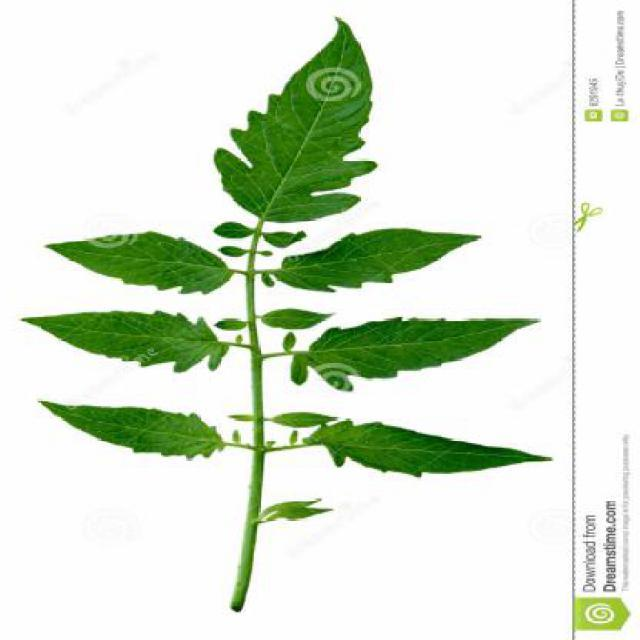Tomato bacterial spot leaf: (208, 23, 388, 231), (306, 303, 551, 397), (296, 410, 558, 492), (28, 384, 257, 472), (256, 226, 502, 305), (9, 301, 262, 377), (41, 220, 234, 297)
